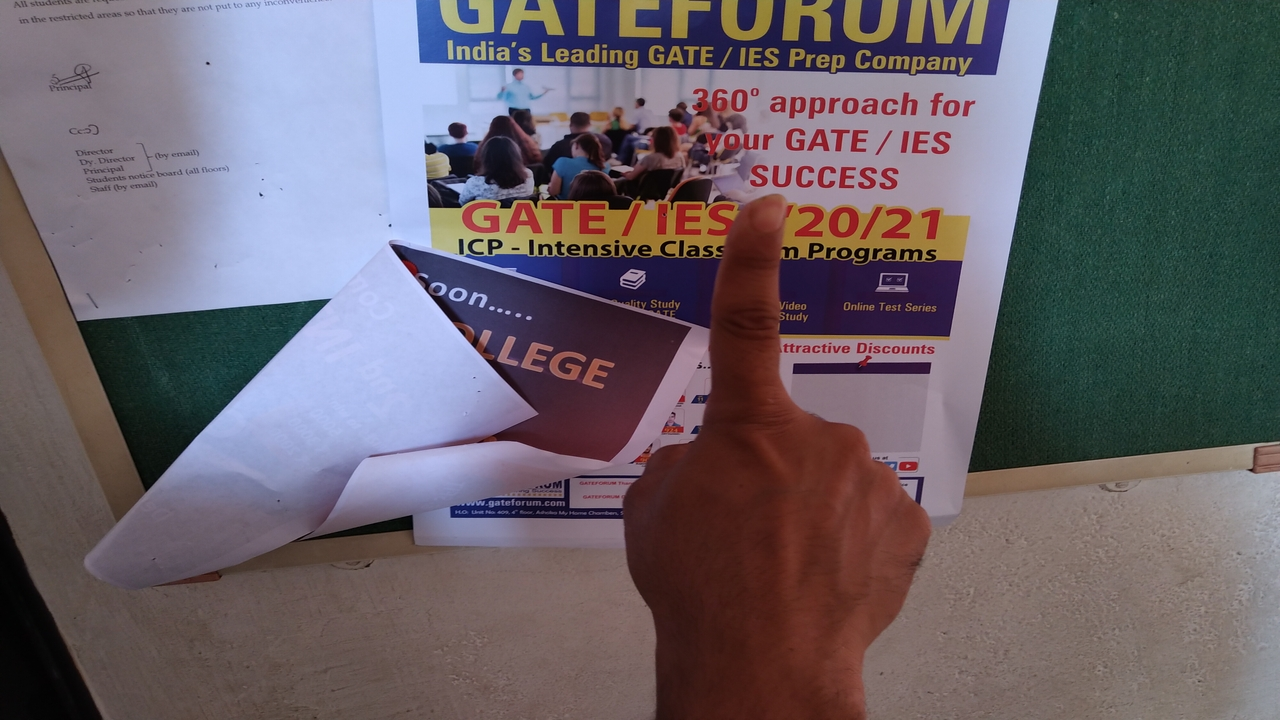fingertip: (728, 184, 796, 248)
